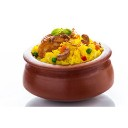briyani: (34, 29, 98, 62)
